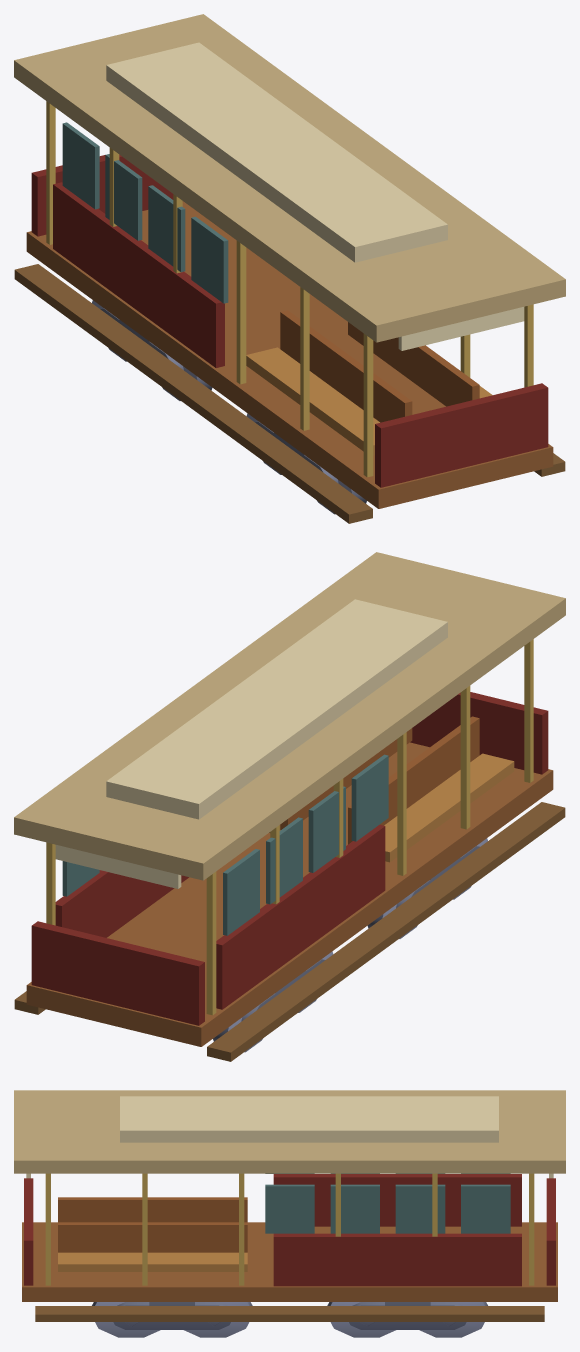
File: powell-cable-car.glb
The picture shows the model from 3 angles, top to bottom: view 1: azimuth 30°, elevation 25°; view 2: azimuth 150°, elevation 25°; view 3: azimuth 270°, elevation 25°; orthographic projection. The views are drawn at different scales.
Visible parts, largest first — view 1: clerestory-roof, clerestory-top, timber-deck, end-panel (×2), closed-cabin-panel, running-board, cabin-window (×4), open-bench-back (×2), brass-roof-post (×5), open-bench-seat, destination-board; view 2: clerestory-roof, clerestory-top, timber-deck, end-panel (×2), closed-cabin-panel (×2), running-board, cabin-window (×5), brass-roof-post (×5), open-bench-back (×2), open-bench-seat, destination-board; view 3: clerestory-roof, closed-cabin-panel (×2), clerestory-top, timber-deck, open-bench-back (×2), cabin-window (×4), running-board, open-bench-seat, brass-roof-post (×6), wheels-front, wheels-back, end-panel (×2).
Boxes of the visible parts, x1,y1,x2,y2 form: clerestory-roof: (14,14,565,342); clerestory-top: (106,42,447,262); timber-deck: (26,201,553,508); end-panel (×2): (31,154,548,487); closed-cabin-panel: (53,182,224,367); running-board: (14,264,372,523); cabin-window (×4): (62,122,228,303); open-bench-back (×2): (280,310,479,422); brass-roof-post (×5): (46,101,533,477); open-bench-seat: (246,347,379,455); destination-board: (398,307,524,350); clerestory-roof: (14,552,565,880); clerestory-top: (106,599,447,819); timber-deck: (26,742,553,1046); end-panel (×2): (31,692,548,1025); closed-cabin-panel (×2): (55,824,385,1009); running-board: (207,802,565,1061); cabin-window (×5): (62,754,388,935); brass-roof-post (×5): (46,639,533,1015); open-bench-back (×2): (280,716,479,844); open-bench-seat: (384,753,514,862); destination-board: (55,845,181,888); clerestory-roof: (14,1090,565,1173); closed-cabin-panel (×2): (273,1174,521,1286); clerestory-top: (120,1096,498,1142); timber-deck: (22,1222,557,1301); open-bench-back (×2): (58,1197,247,1252); cabin-window (×4): (265,1184,510,1233); running-board: (35,1306,544,1321); open-bench-seat: (58,1252,247,1271); brass-roof-post (×6): (45,1173,534,1285); wheels-front: (92,1302,252,1337); wheels-back: (327,1302,487,1337); end-panel (×2): (24,1178,555,1285).
Bounding box in the file's own units: 2.91 × 3.36 × 8.45.
